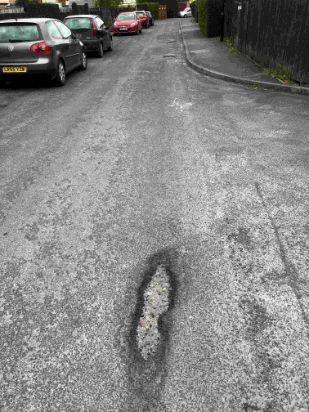pothole: (121, 249, 181, 375)
